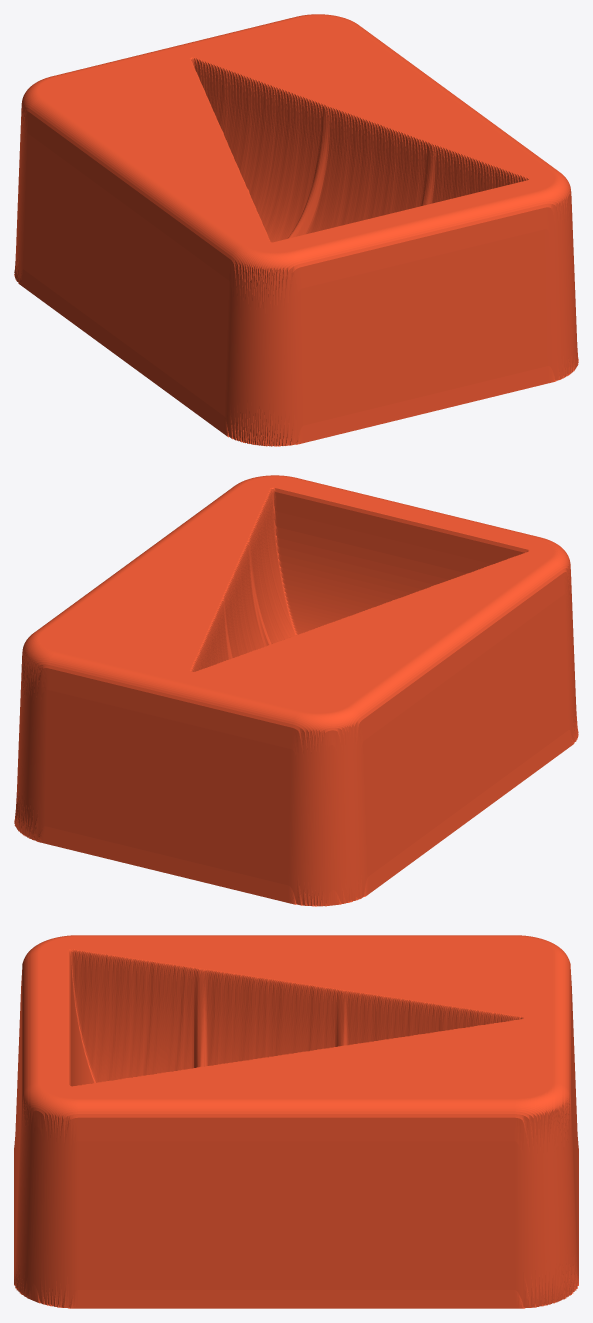
File: mold.glb
3 views of the same model, one above another, from view 1: azimuth 30°, elevation 25°; view 2: azimuth 150°, elevation 25°; view 3: azimuth 270°, elevation 25° (orthographic). The views are drawn at different scales.
Visible parts, largest first — view 1: geometry_0; view 2: geometry_0; view 3: geometry_0.
Part boxes in pixels (<box>): geometry_0: <box>14,14,578,446</box>; geometry_0: <box>14,475,578,906</box>; geometry_0: <box>14,935,578,1308</box>.
Size of the model in its own units: 0.0614 by 0.031 by 0.0798.
